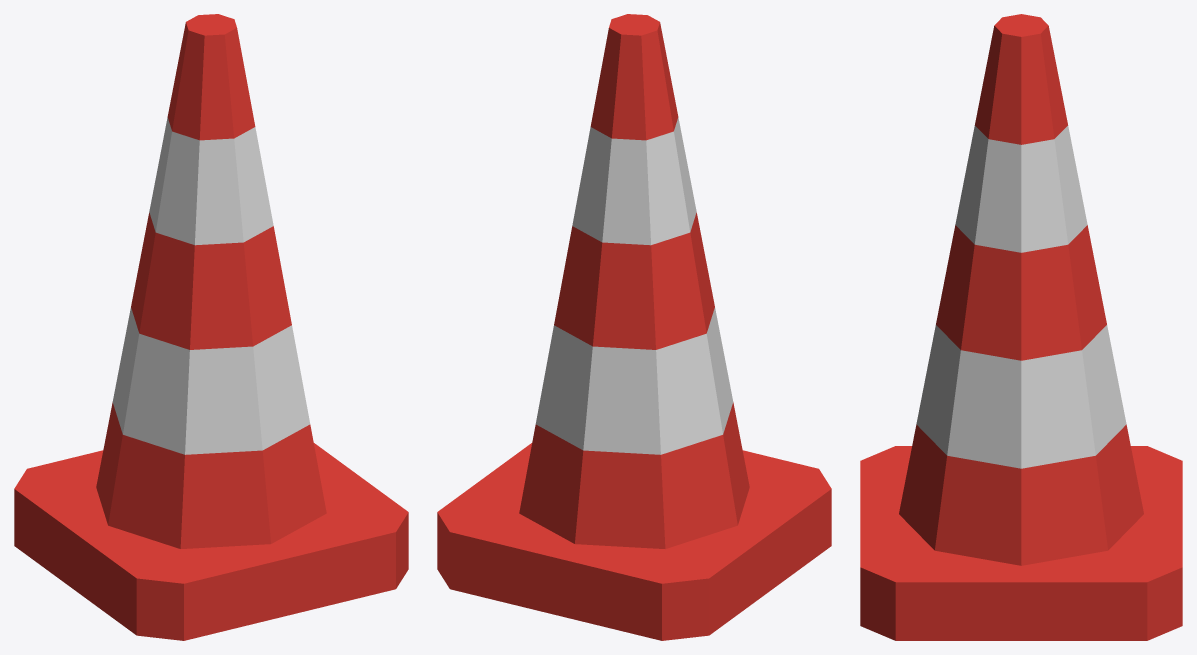
The model's file is Sign_01.fbx.
3 renders of one model, left to right at view 1: azimuth 30°, elevation 25°; view 2: azimuth 150°, elevation 25°; view 3: azimuth 270°, elevation 25°, orthographic. The views are drawn at different scales.
Parts seen in each view (by area): view 1: Sign_01; view 2: Sign_01; view 3: Sign_01.
Boxes of the visible parts, x1,y1,x2,y2 form: Sign_01: (14, 14, 408, 640); Sign_01: (437, 14, 831, 640); Sign_01: (860, 14, 1182, 640).
Size of the model in its own units: 20.82 by 38.98 by 20.82.
